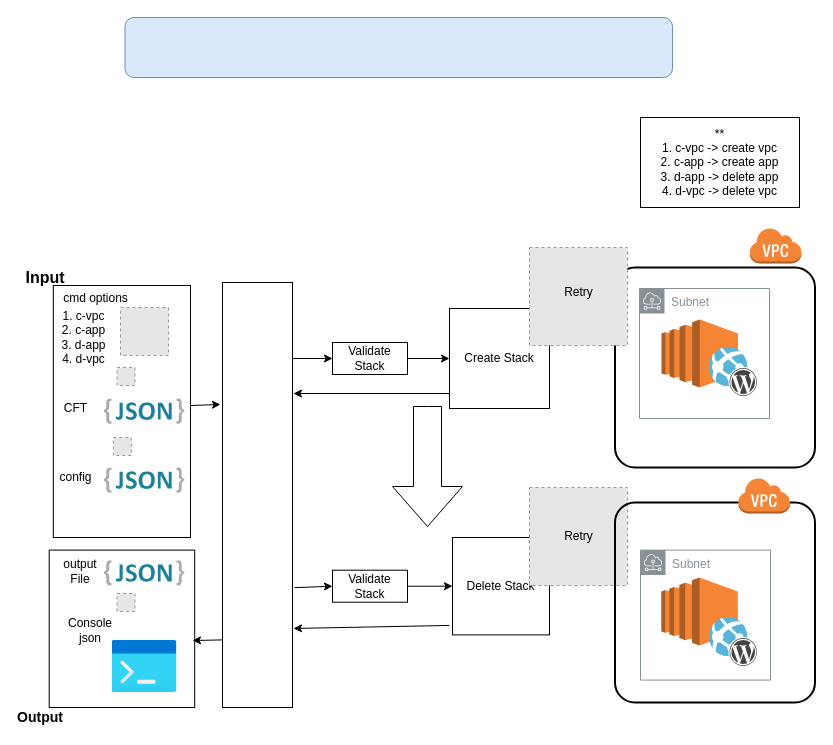
This 833x745 diagram has some shape labels left out. Grey dashed boxes stand in for pictures. Here are the shapes that lost their labels. From the top down, the centre of each, then its label:
point (398, 47): High Level Arch
point (427, 466): R O L L B A C K
point (257, 495): Main
